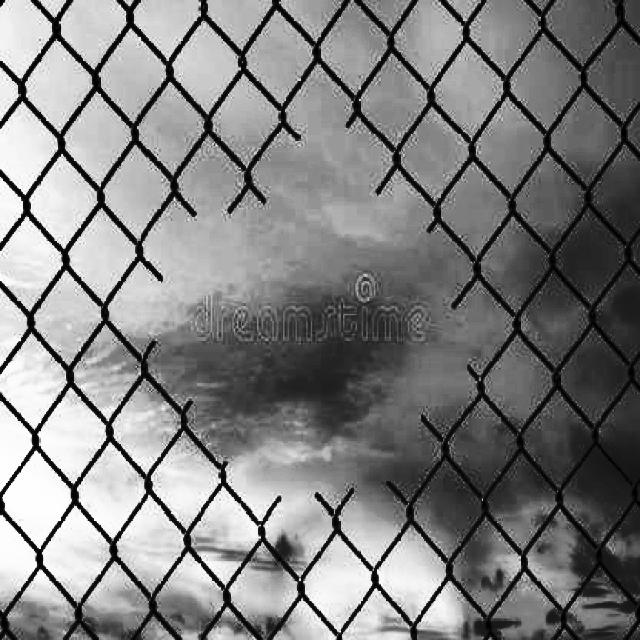anomaly-fence: (111, 117, 526, 501)
